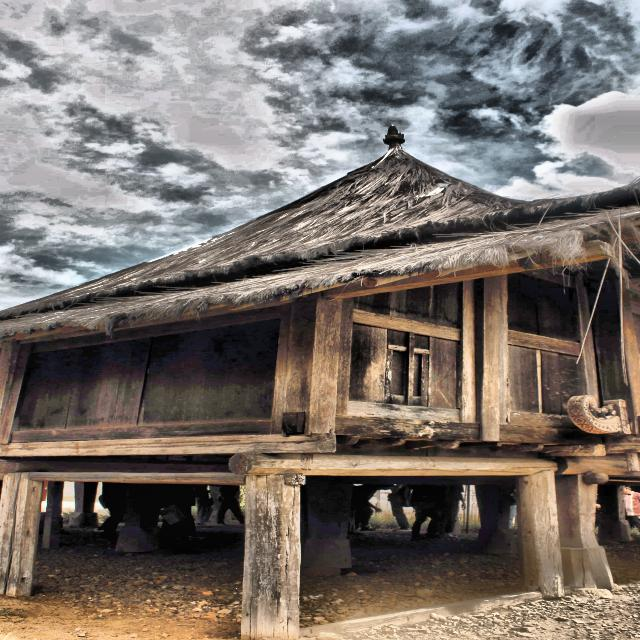column: (241, 475, 300, 640), (556, 474, 613, 589), (521, 471, 565, 598), (0, 474, 44, 597)
ornamen: (568, 395, 631, 434)
roof: (0, 125, 640, 340)
wall: (1, 232, 637, 444)
window: (384, 344, 430, 407)
